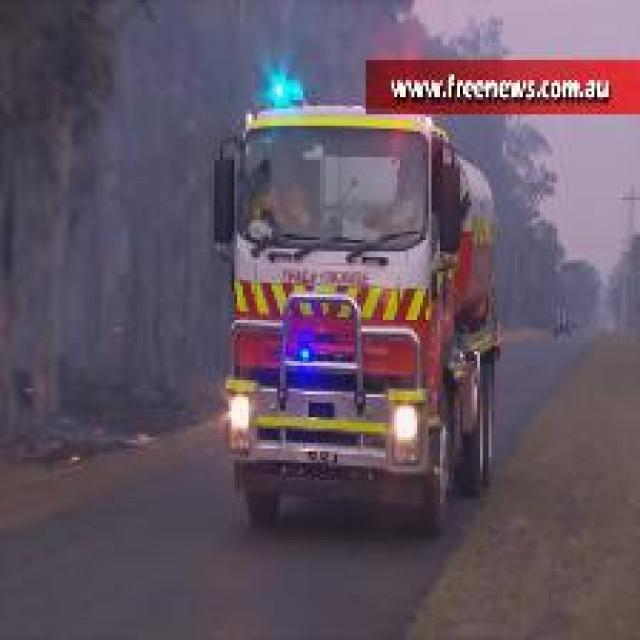other: (238, 273, 414, 344), (380, 383, 469, 495), (214, 379, 266, 449)
